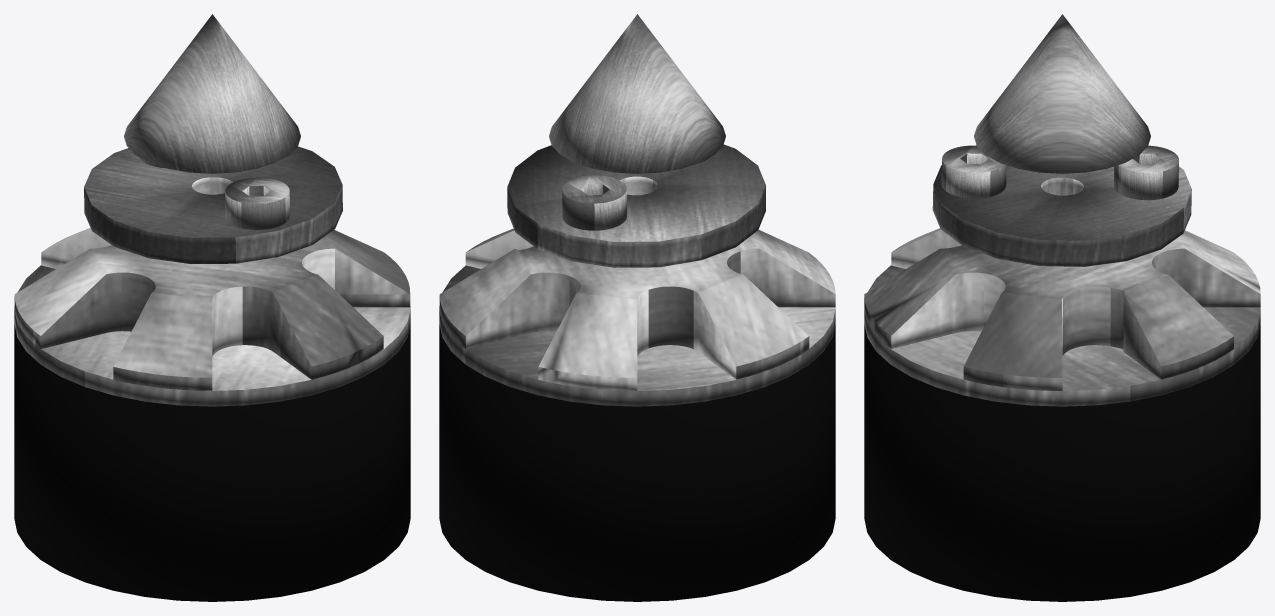
File: alti_transition_engine.dae
3 views of the same model, side by side, from view 1: azimuth 30°, elevation 25°; view 2: azimuth 150°, elevation 25°; view 3: azimuth 270°, elevation 25° (orthographic).
Parts seen in each view (by area): view 1: Zylinder015.002, Kreis010.002, Rohr004.002, ~CS_SPINNER2.002, Zylinder016.002, Zylinder018.002; view 2: Zylinder015.002, Kreis010.002, Rohr004.002, ~CS_SPINNER2.002, Zylinder016.002, Zylinder017.002; view 3: Zylinder015.002, Kreis010.002, Rohr004.002, ~CS_SPINNER2.002, Zylinder016.002, Zylinder018.002, Zylinder017.002.
Boxes of the visible parts, x1,y1,x2,y2 form: Zylinder015.002: (14, 324, 410, 601); Kreis010.002: (14, 228, 410, 390); Rohr004.002: (84, 146, 342, 263); ~CS_SPINNER2.002: (124, 14, 300, 173); Zylinder016.002: (14, 265, 410, 406); Zylinder018.002: (225, 177, 289, 229); Zylinder015.002: (439, 324, 835, 601); Kreis010.002: (439, 228, 835, 390); Rohr004.002: (507, 144, 765, 267); ~CS_SPINNER2.002: (549, 14, 725, 173); Zylinder016.002: (439, 265, 835, 406); Zylinder017.002: (562, 175, 626, 230); Zylinder015.002: (864, 324, 1260, 601); Kreis010.002: (864, 228, 1260, 390); Rohr004.002: (932, 145, 1191, 266); ~CS_SPINNER2.002: (974, 14, 1150, 173); Zylinder016.002: (864, 265, 1260, 406); Zylinder018.002: (941, 145, 1006, 198); Zylinder017.002: (1114, 145, 1178, 200).
Bounding box in the file's own units: 0.0264 × 0.0264 × 0.0371.
3 materials, 3 textured.
